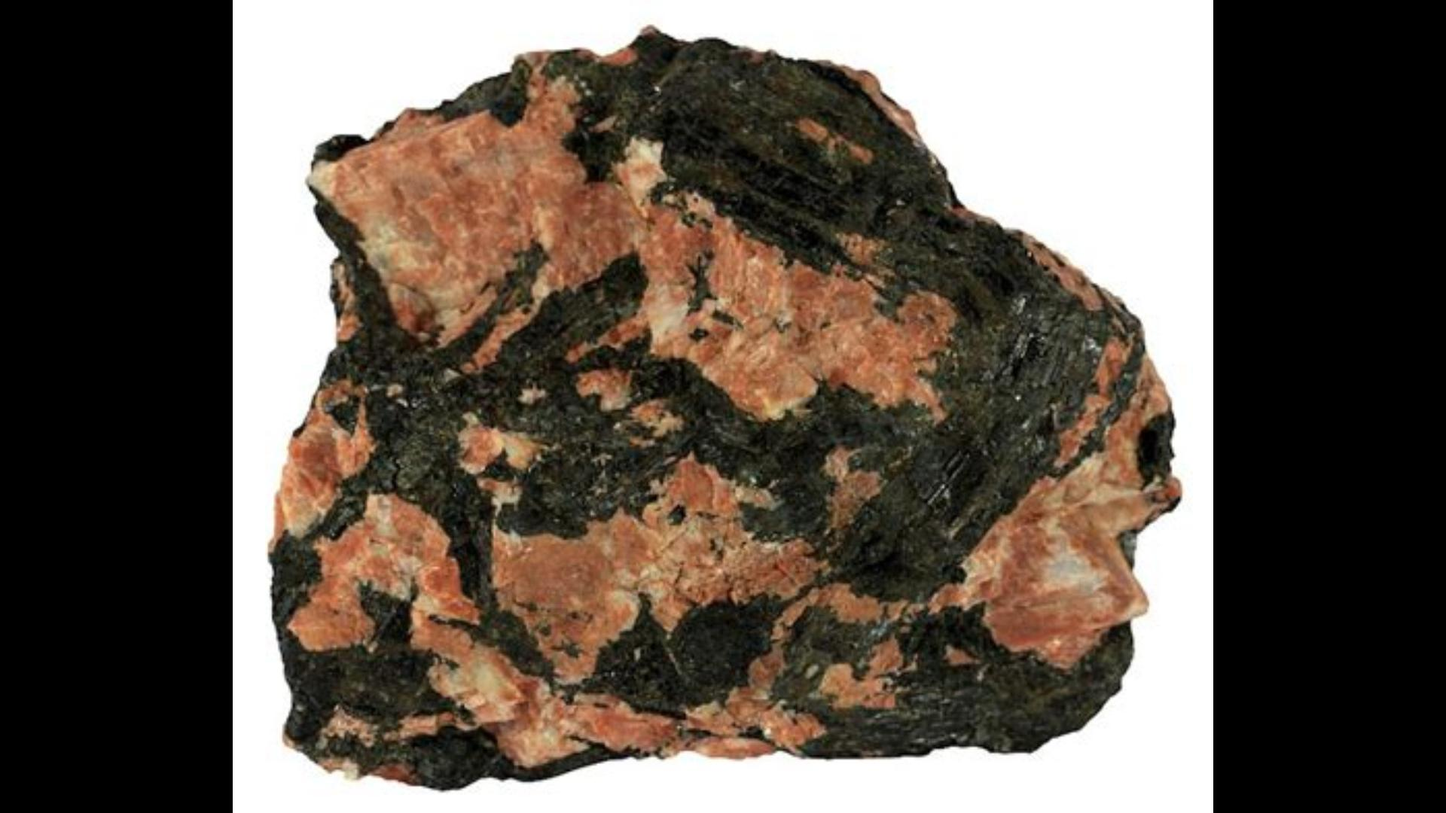rock: (270, 33, 1176, 786)
